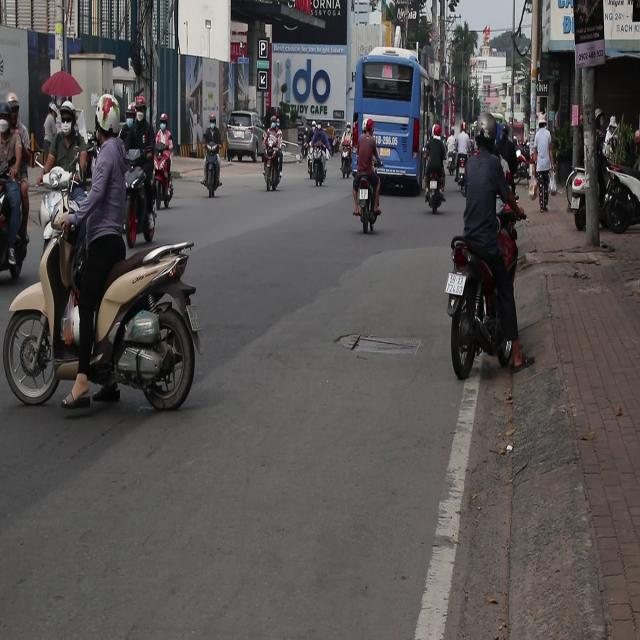bus: (351, 50, 427, 194)
car: (224, 112, 266, 162)
motorbike: (8, 205, 208, 415), (442, 251, 537, 372), (39, 147, 84, 255), (118, 142, 162, 235), (0, 132, 23, 277), (201, 128, 229, 202), (358, 186, 386, 227), (155, 149, 173, 209), (302, 141, 320, 189), (426, 176, 448, 215), (262, 148, 282, 190), (455, 157, 469, 195), (316, 160, 328, 188)
